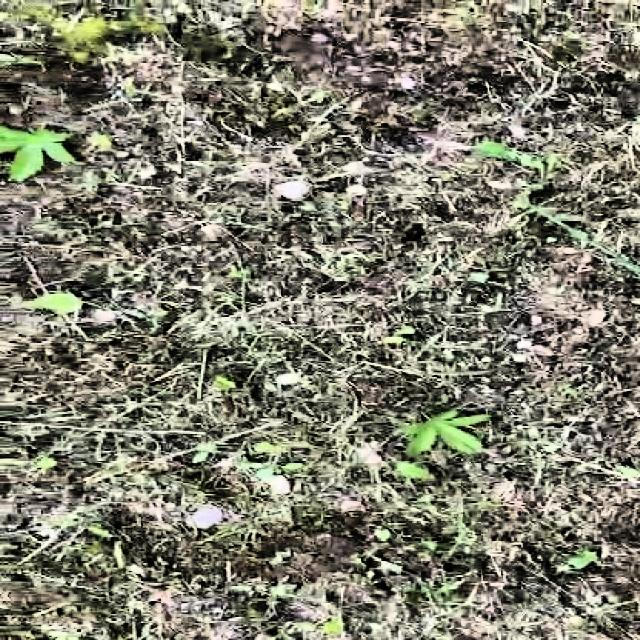Weeds: (1, 117, 79, 188), (403, 407, 491, 461)
